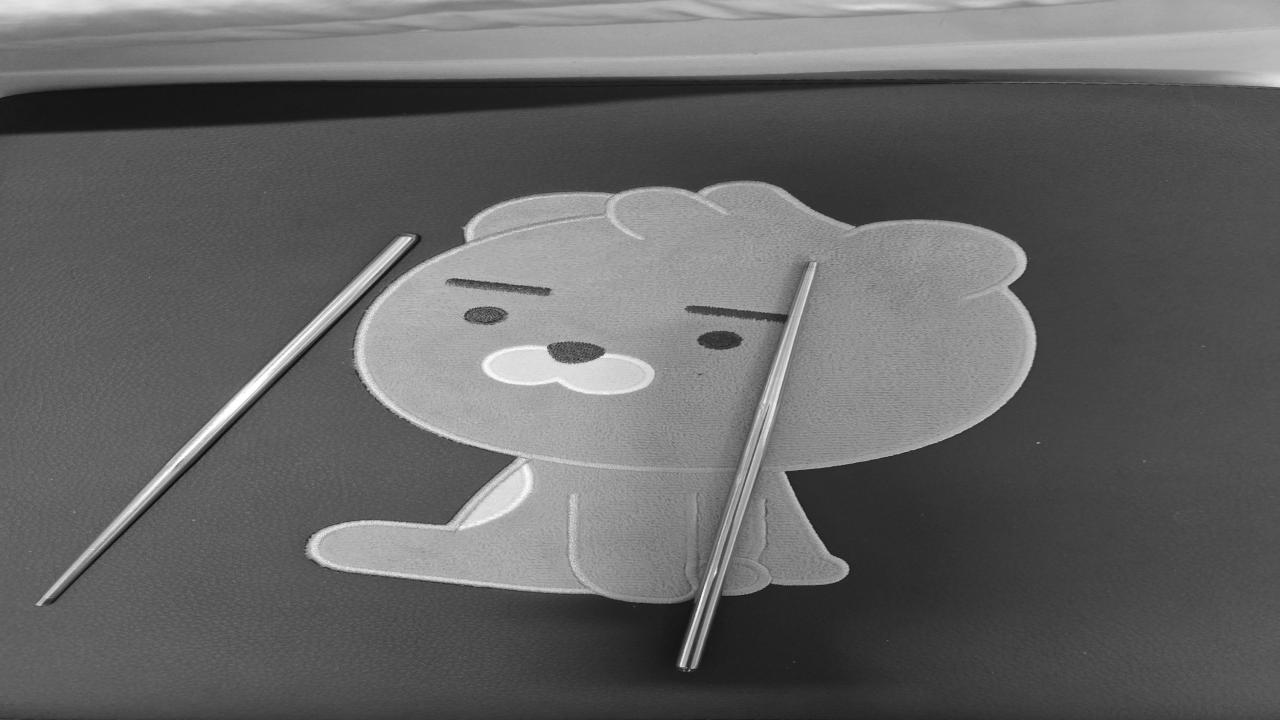chopstick: (34, 232, 420, 604), (677, 263, 819, 672)
